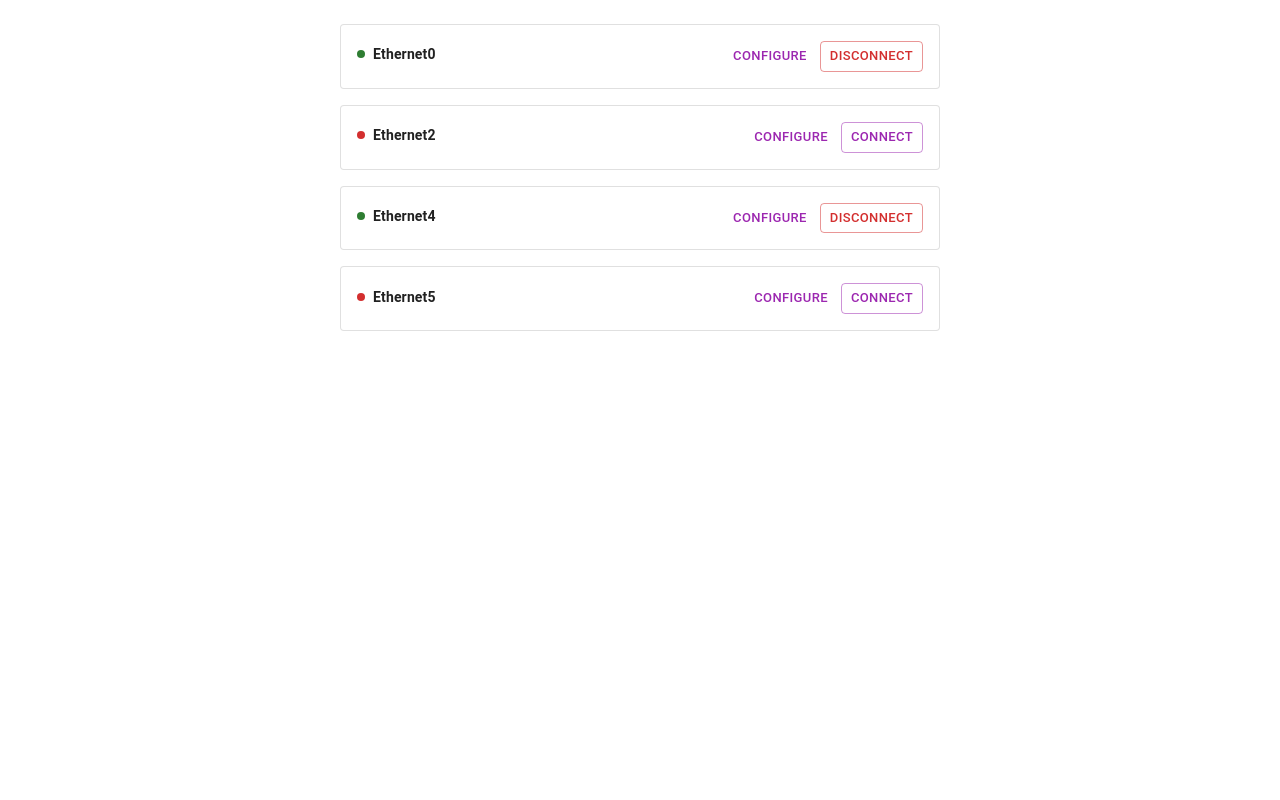
Connect on a newly added (unconfigured) interface › still shows plain Save when the same interface is opened via Configure
Click the button with aria-label "Configure Ethernet5".
click(791, 299)  # box x1=749 y1=283 x2=833 y2=314
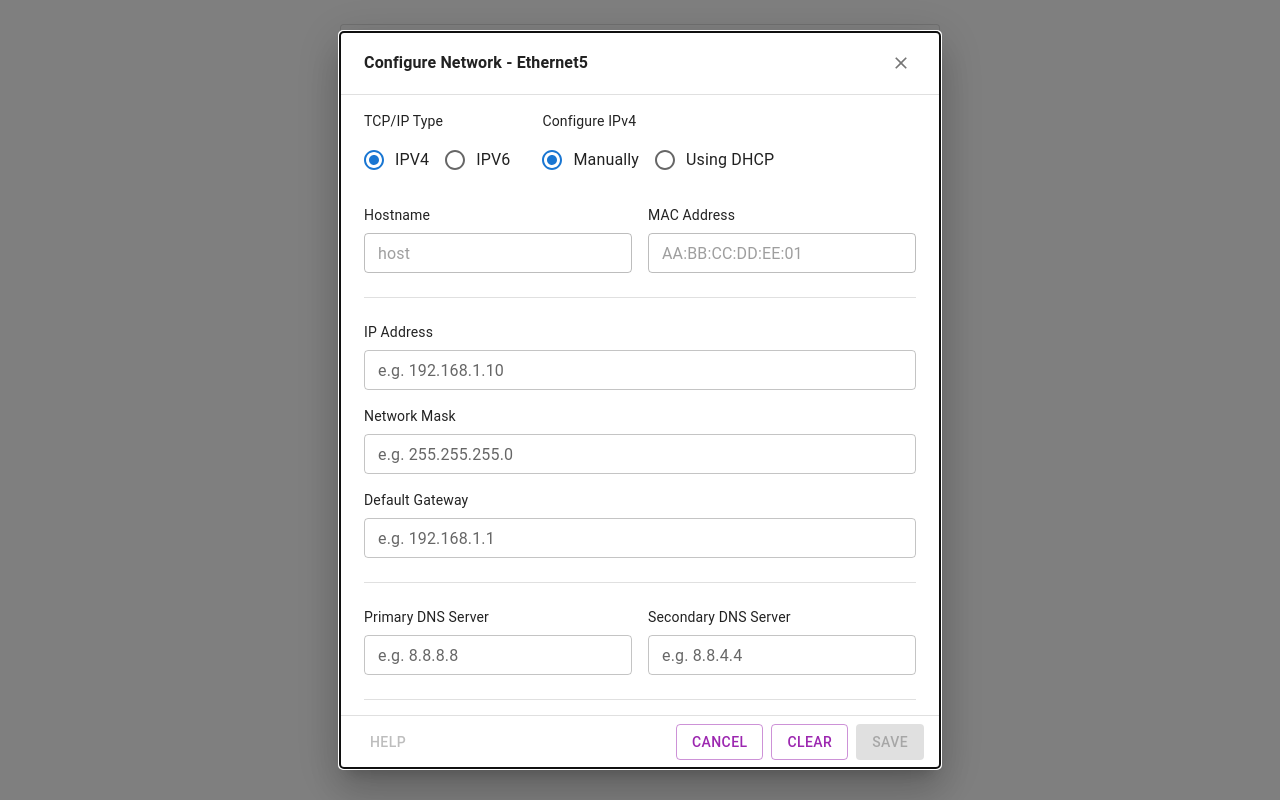
Expected: the button "Save" is shown, x1=856 y1=724 x2=924 y2=760
